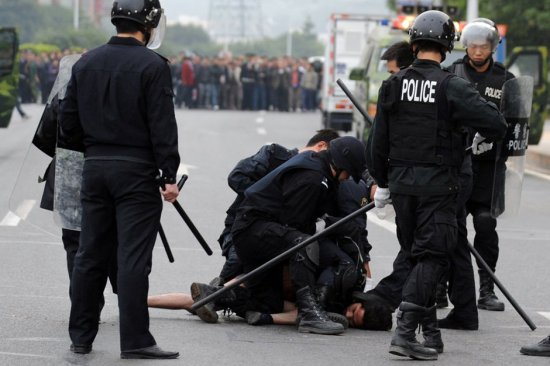10+: (6, 1, 524, 361)
down: (145, 262, 395, 338)
